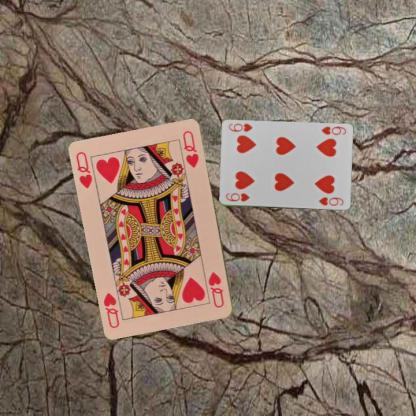6h: (318, 124, 347, 136), (223, 190, 251, 202)
Qh: (74, 149, 94, 190), (206, 269, 226, 309)
